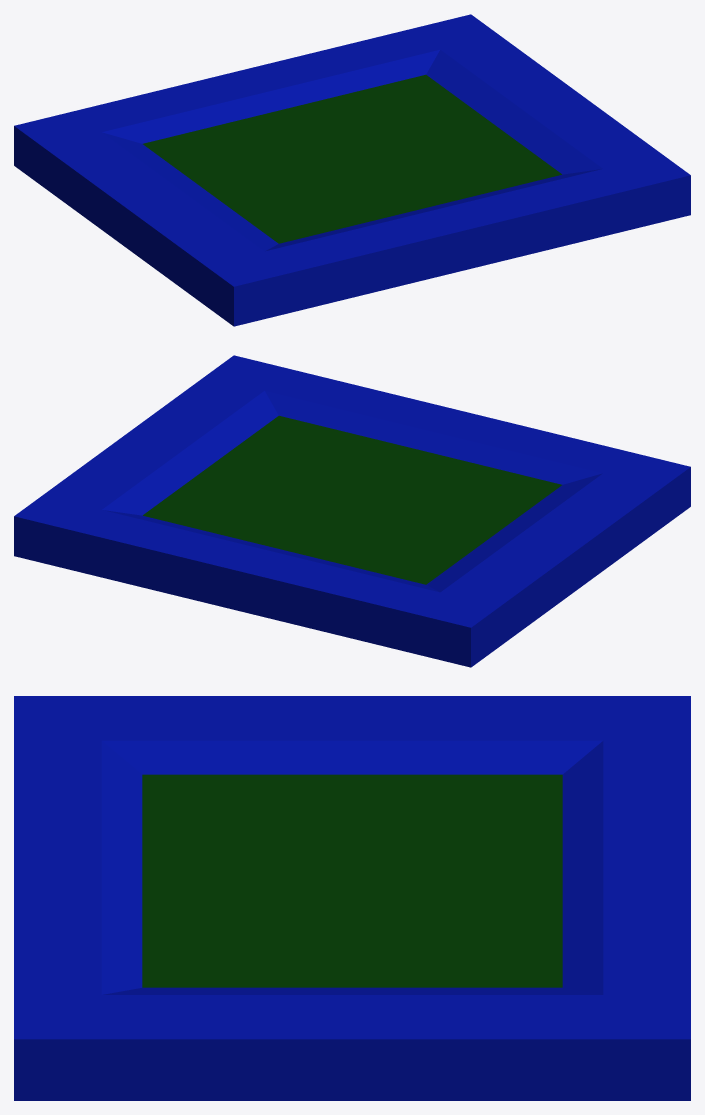
File: OBJ_Tile_Sol.fbx
The picture shows the model from 3 angles, top to bottom: view 1: azimuth 30°, elevation 25°; view 2: azimuth 150°, elevation 25°; view 3: azimuth 270°, elevation 25°; orthographic projection. The views are drawn at different scales.
Parts seen in each view (by area): view 1: OBJ_Tile_Sol; view 2: OBJ_Tile_Sol; view 3: OBJ_Tile_Sol.
Part boxes in pixels (box(x1,y1,x2,y2)): OBJ_Tile_Sol: box(14, 14, 690, 326); OBJ_Tile_Sol: box(14, 355, 690, 667); OBJ_Tile_Sol: box(14, 696, 690, 1100).
Bounding box in the file's own units: 12 × 1 × 10.
